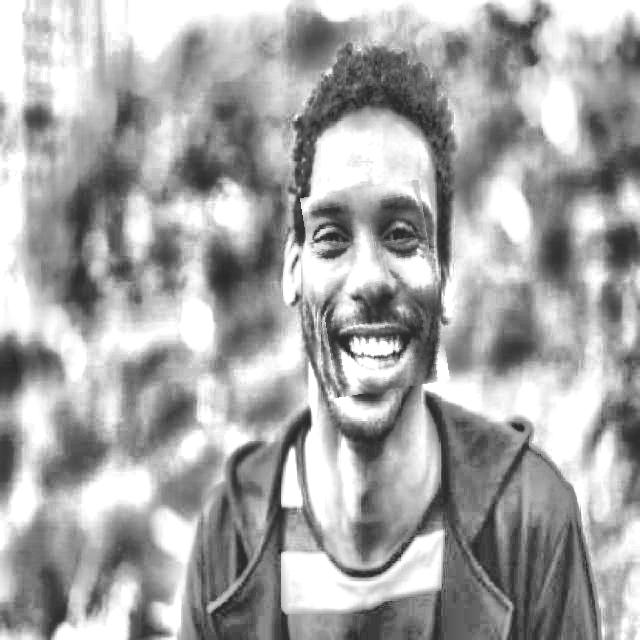happy: (308, 183, 442, 394)
